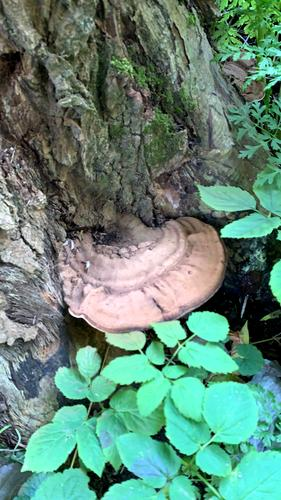Ganoderma - Fruit Body: (55, 218, 227, 336)
